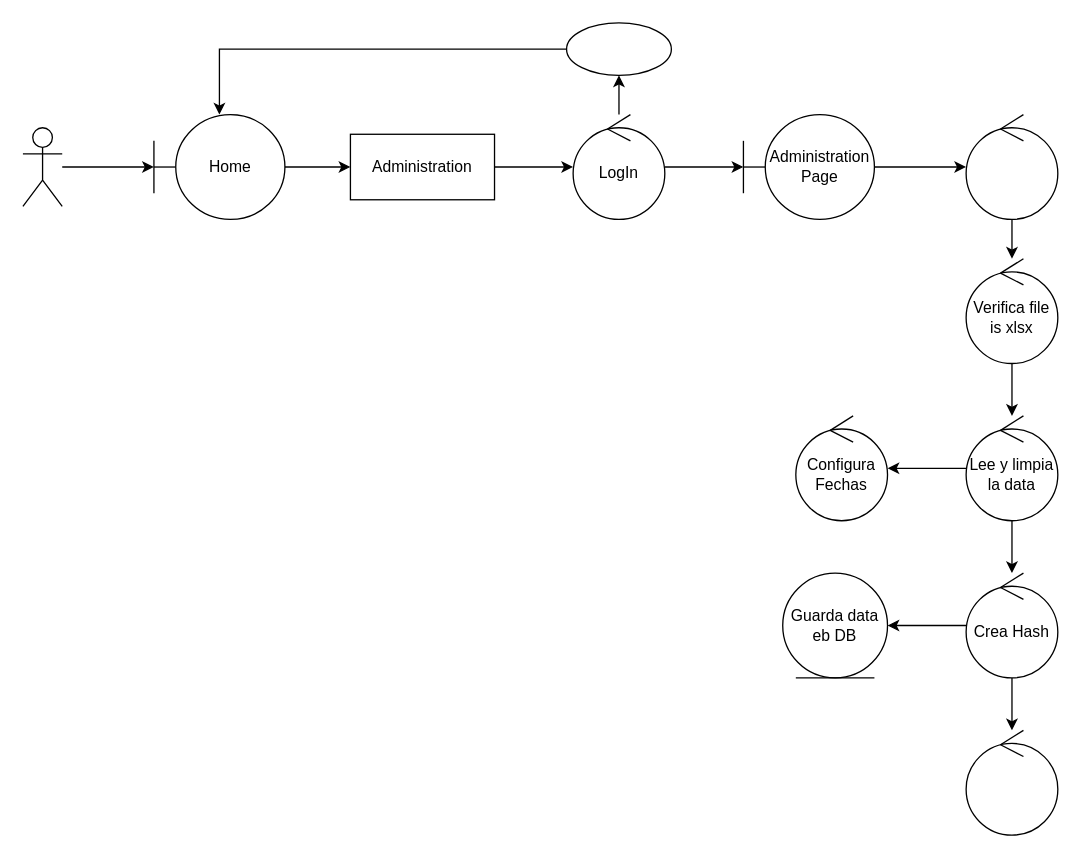
The diagram is 1081 pixels wide and 858 high, and some of its shapes have lost their labels. The box of each missing label's shape, as (x1, y1, x2, y2) in pixels:
Actor: (22, 126, 62, 206)
Envia correos coordina: (965, 729, 1058, 835)
Load Start xlsx: (965, 113, 1058, 219)
No: (565, 22, 671, 75)
